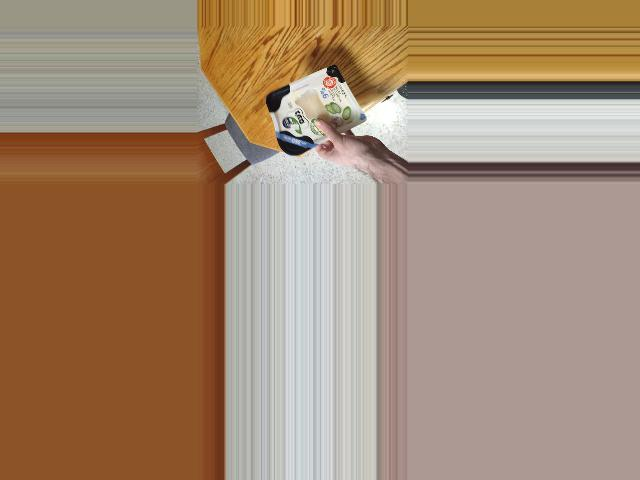cheese: (265, 70, 356, 161)
